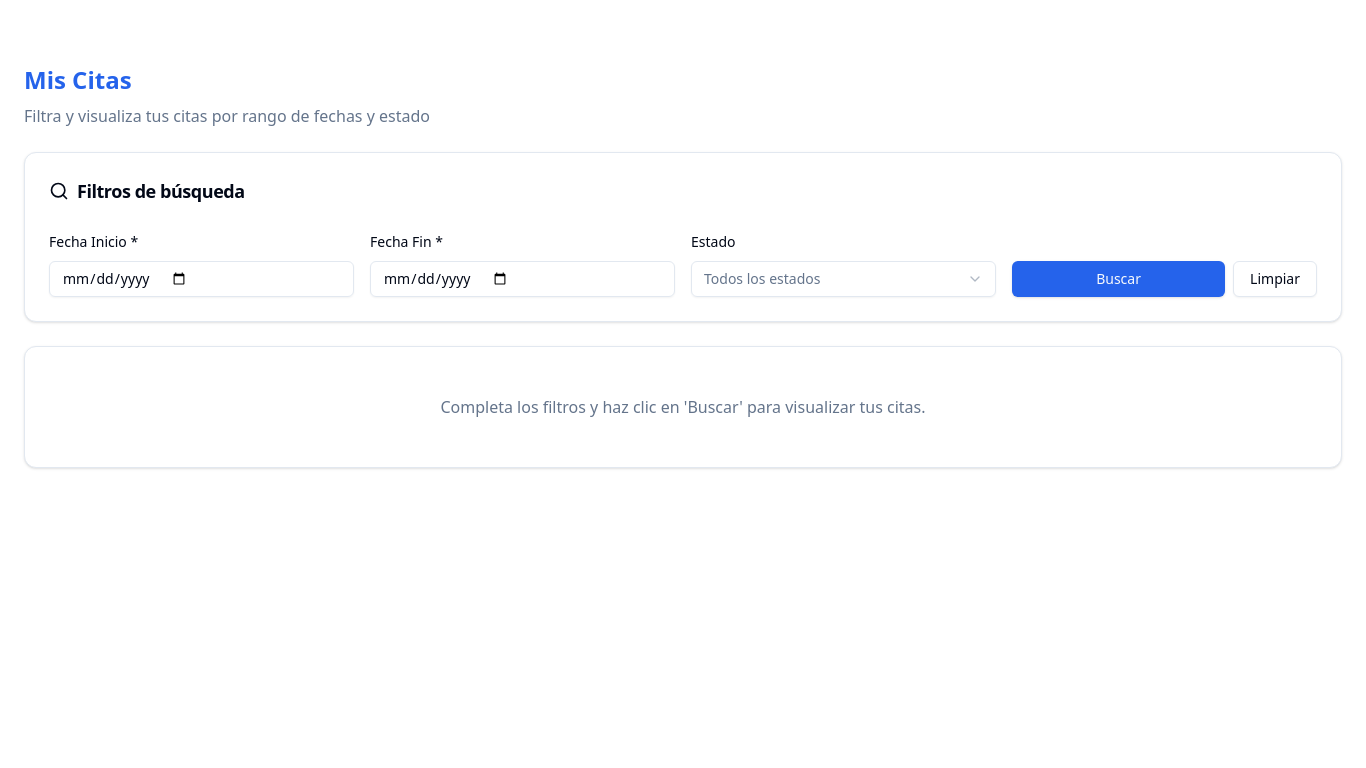
Test: ListAppointmentsComponent › Filtrado por estado › debe filtrar citas por estado después de buscar
The width and height of the screenshot is (1366, 768).
Type "2025-04-01" into the date field below "Fecha Inicio *" at [202, 279], box x1=49 y1=261 x2=354 y2=297
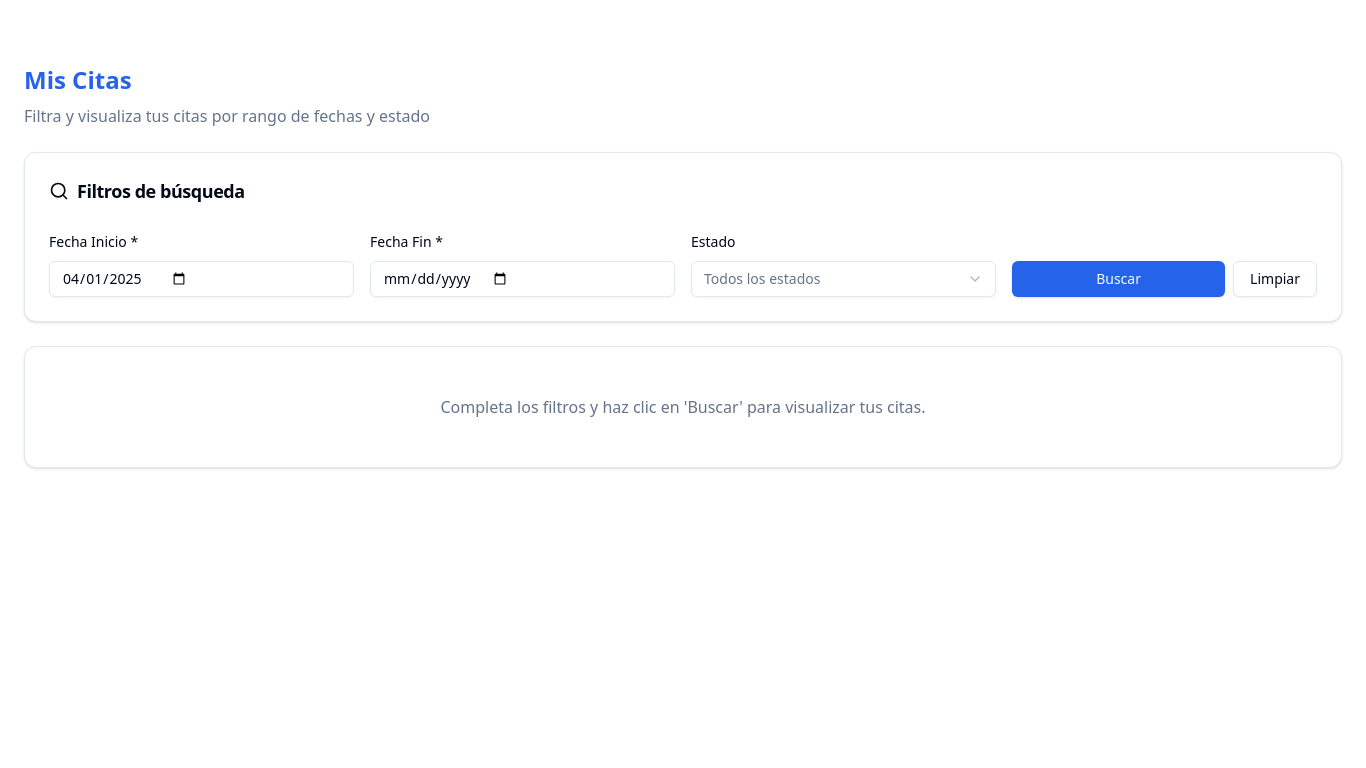
Type "2025-04-30" into the date field below "Fecha Fin *" at [522, 279], box x1=370 y1=261 x2=675 y2=297
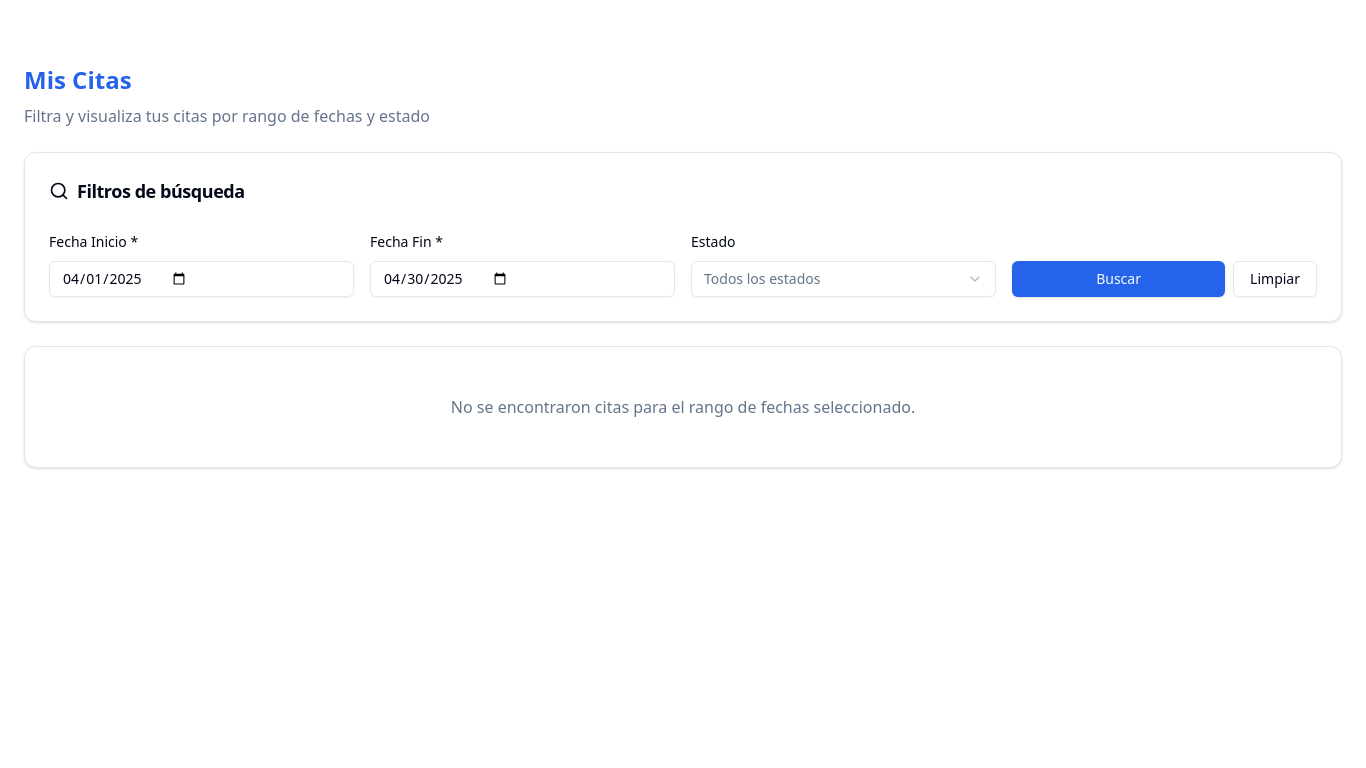
Click the button "Buscar" at [1119, 279], box x1=1012 y1=261 x2=1225 y2=297
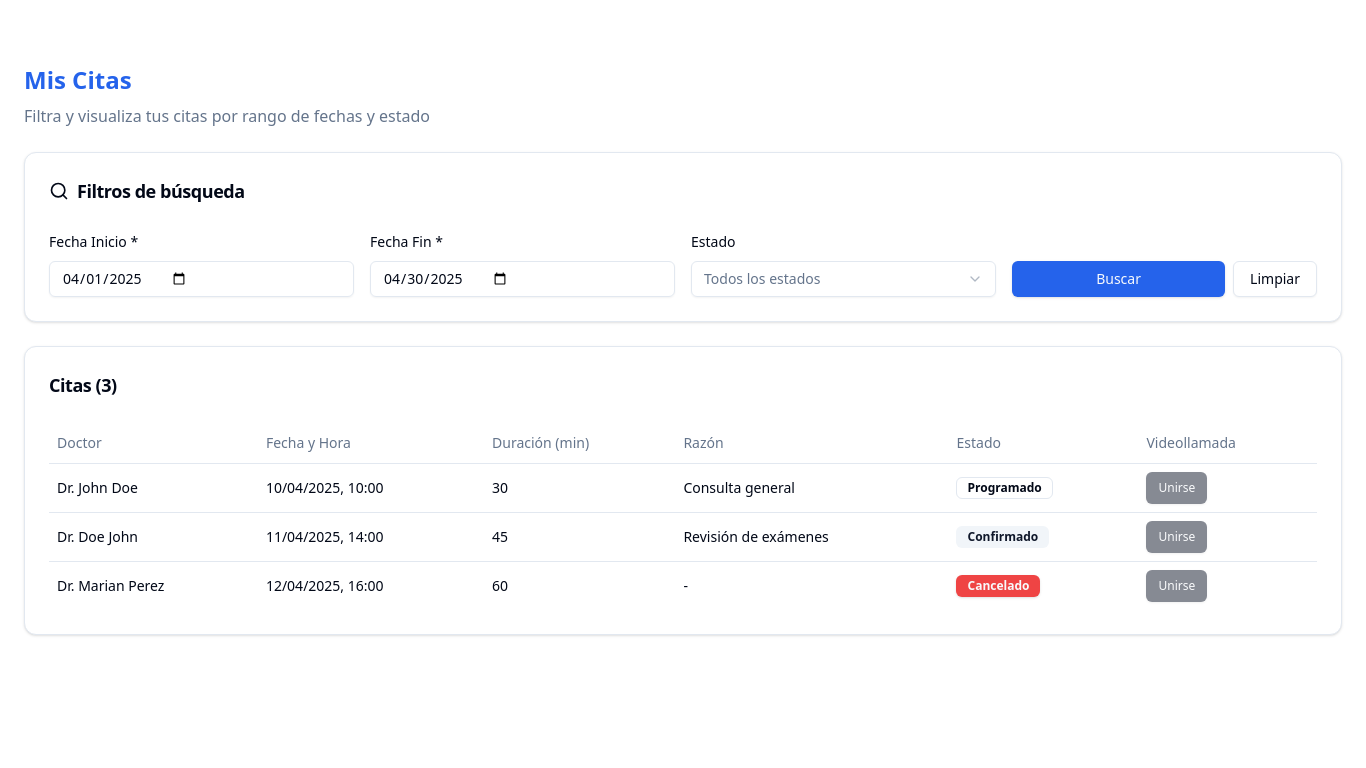
Result: the text "Citas (3)" is shown at x1=49 y1=373 x2=117 y2=397
// Seleccionar filtro de estado - abrir el select
Click the dropdown at [762, 278], box x1=691 y1=261 x2=996 y2=297
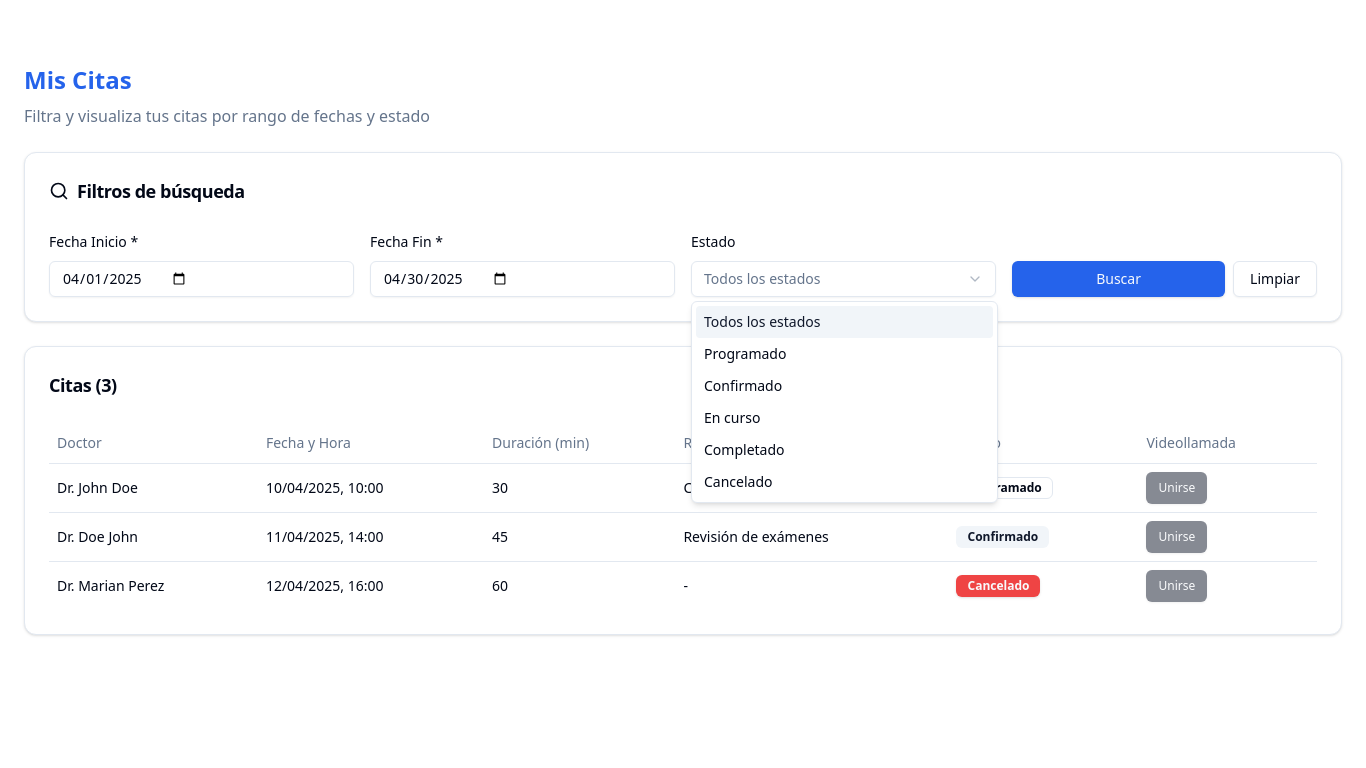
// Seleccionar "Confirmado"
Click the option "Confirmado" at [743, 386], box x1=704 y1=376 x2=782 y2=395
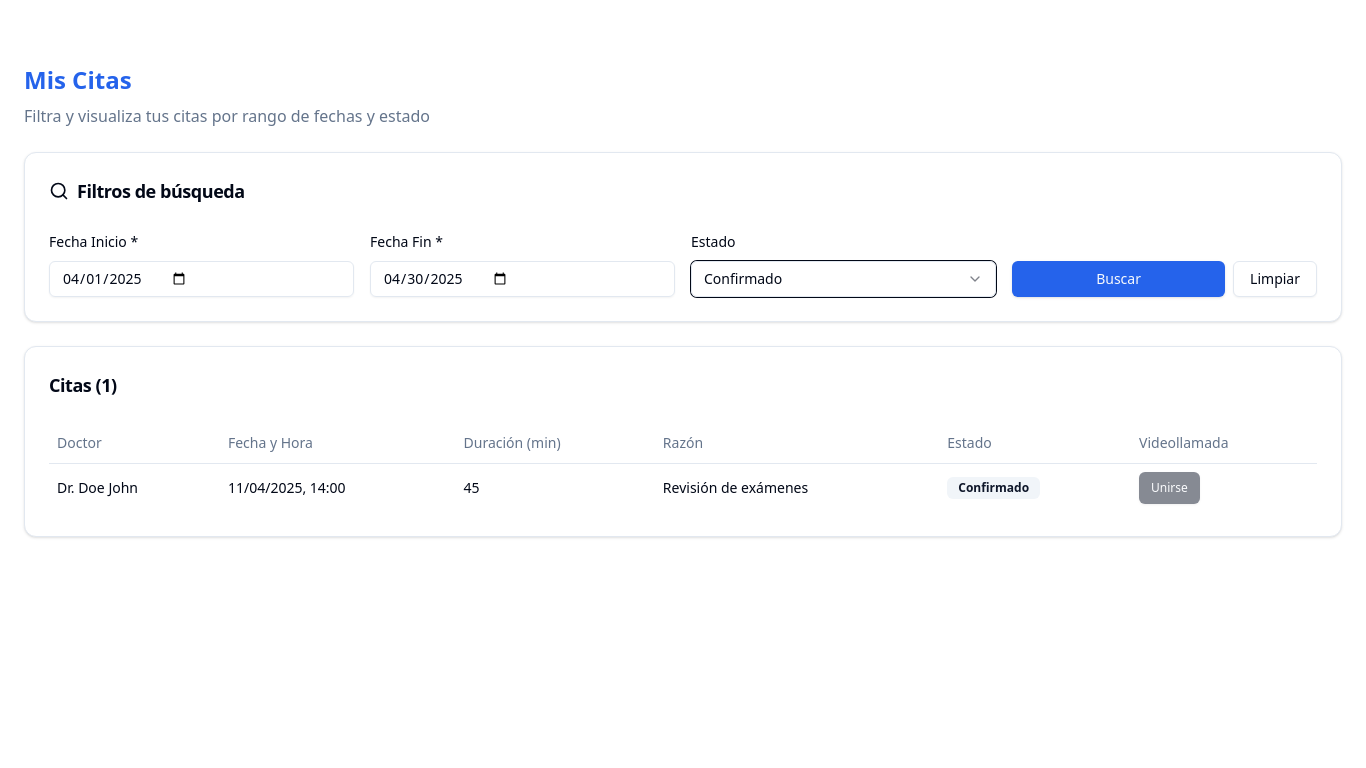
Result: the text "Revisión de exámenes" is shown at x1=655 y1=463 x2=939 y2=512
Result: the text "Citas (1)" is shown at x1=49 y1=373 x2=117 y2=397
